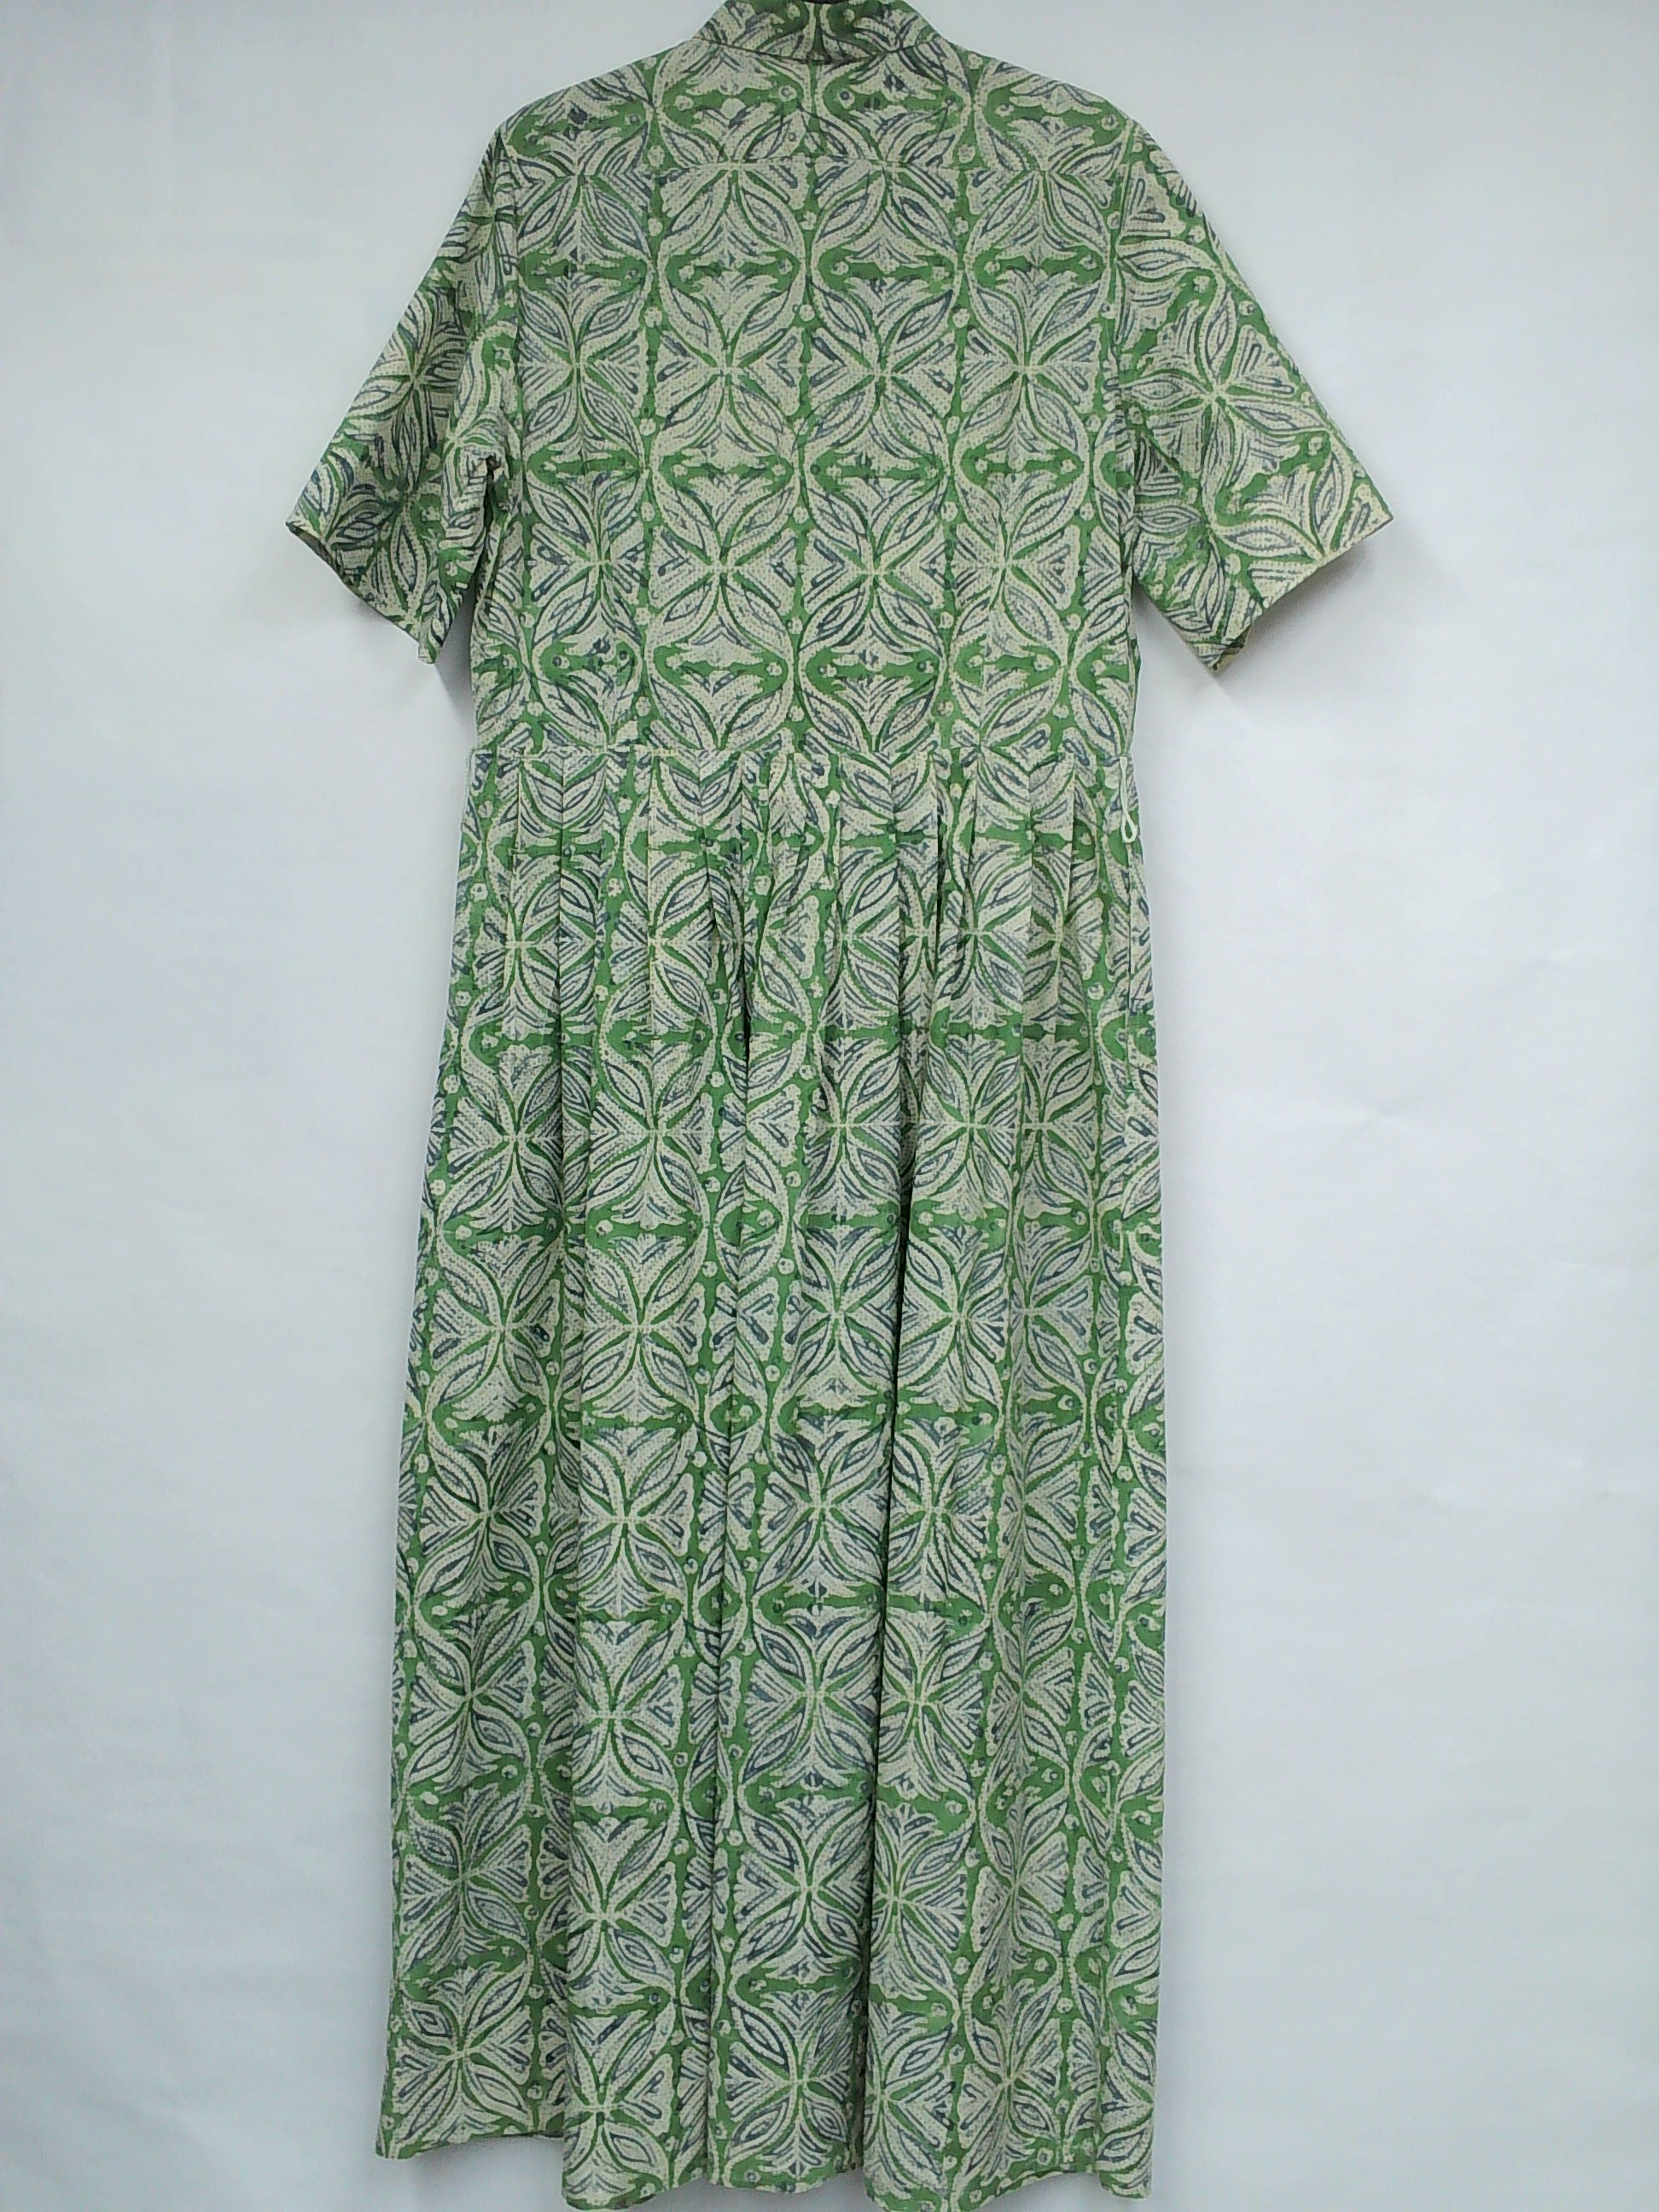bad_fabric: (479, 685, 1136, 829)
